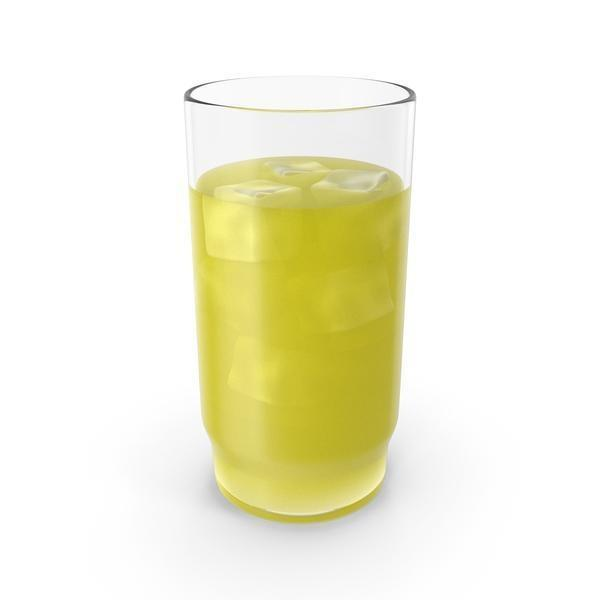glass-normal: (181, 72, 420, 525)
